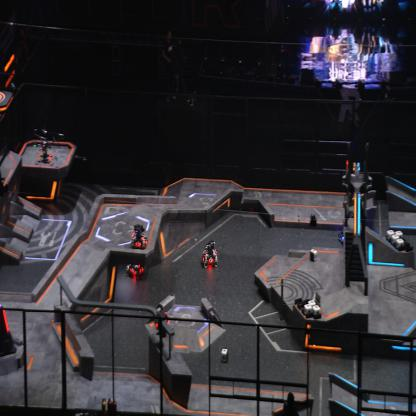car: (338, 207, 360, 243), (201, 239, 219, 269), (128, 223, 148, 249), (127, 252, 145, 280)
